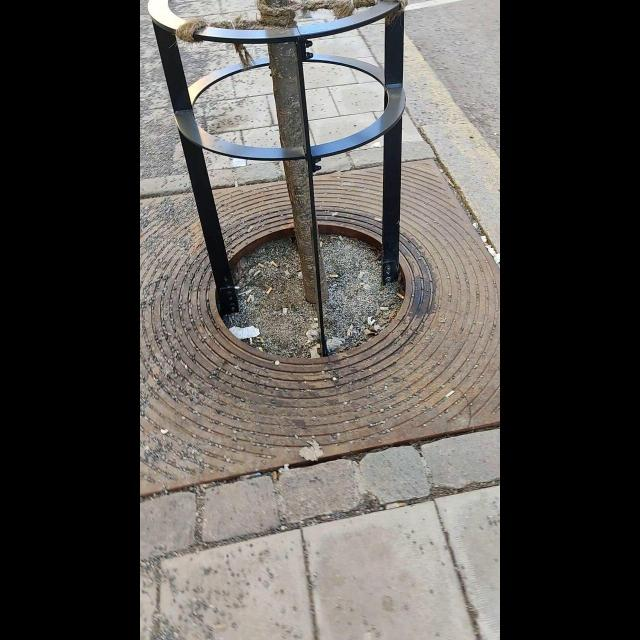cigarette: (328, 272, 339, 278), (253, 269, 261, 277), (446, 391, 455, 398), (397, 293, 404, 300), (258, 262, 266, 268), (346, 328, 351, 337), (380, 306, 390, 310), (267, 288, 273, 294), (320, 242, 323, 249), (250, 338, 253, 344), (235, 182, 238, 188), (248, 296, 251, 302), (258, 347, 262, 351), (272, 262, 276, 266)
